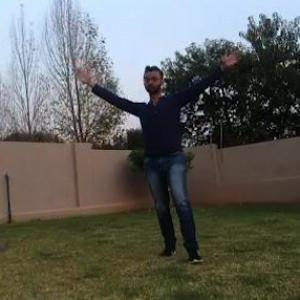takeoff: (74, 36, 248, 268)
